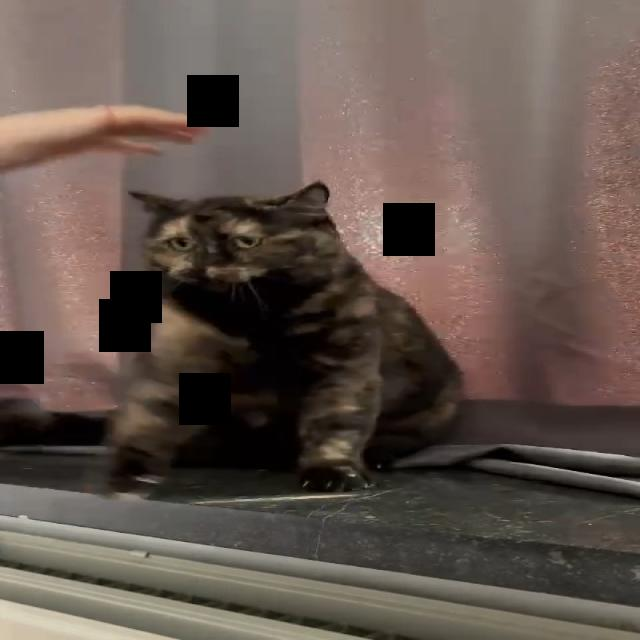authorized: (104, 179, 465, 493)
